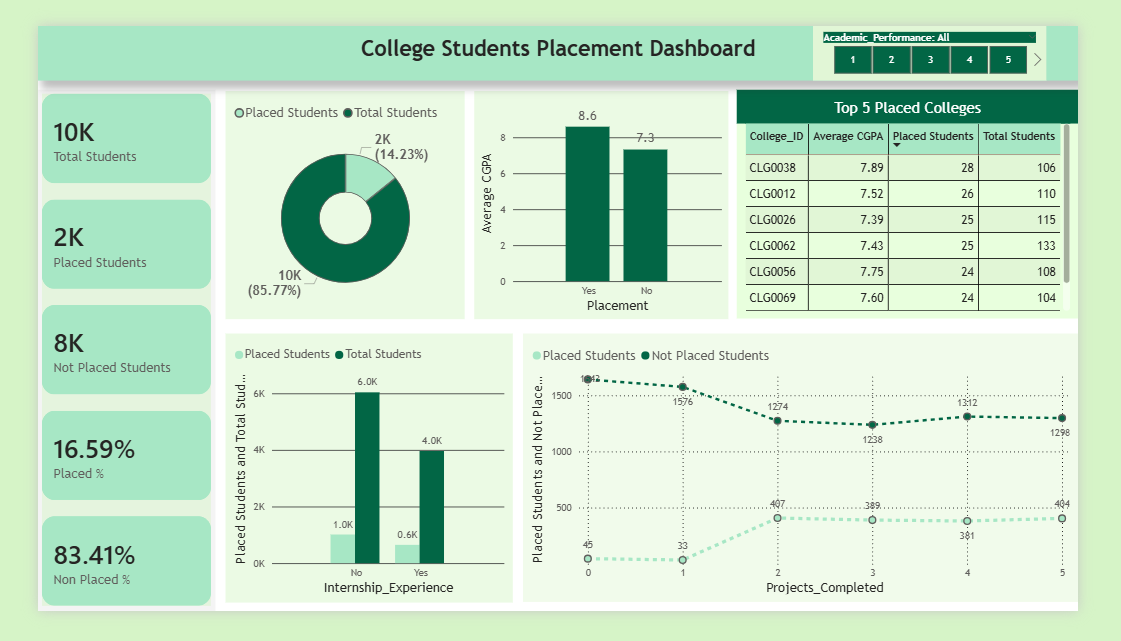

What the dashboard file says about the page in this screenshot:
{"tool":"powerbi","page":{"name":"Page 1","canvas":[1280,720],"ordinal":0},"visuals":[{"type":"cardVisual","fields":{"Data":["college_student_placement_datas.Total Students","college_student_placement_datas.Placed Students","college_student_placement_datas.Not Placed Students","college_student_placement_datas.Placed %","college_student_placement_datas.Non Placed %"]},"box":[0,78.5,218.8,631],"z":0},{"type":"donutChart","fields":{"Y":["college_student_placement_datas.Placed Students","college_student_placement_datas.Total Students"]},"box":[231.4,79.9,294.5,280.5],"z":1000},{"type":"clusteredColumnChart","fields":{"Category":["college_student_placement_datas.Internship_Experience"],"Y":["college_student_placement_datas.Placed Students","college_student_placement_datas.Total Students"]},"box":[231.4,378.6,353.4,330.9],"z":2000},{"type":"columnChart","fields":{"Category":["college_student_placement_datas.Placement"],"Y":["college_student_placement_datas.Average CGPA"]},"box":[537.1,79.9,312.7,280.5],"z":3000},{"type":"tableEx","title":"Top 5 Placed Colleges","fields":{"Values":["college_student_placement_datas.College_ID","college_student_placement_datas.Average CGPA","college_student_placement_datas.Placed Students","college_student_placement_datas.Total Students"]},"box":[859.6,78.5,420.7,281.9],"z":4000},{"type":"actionButton","box":[0,0,100,40],"z":5000},{"type":"lineChart","fields":{"Category":["college_student_placement_datas.Projects_Completed"],"Y":["college_student_placement_datas.Placed Students","college_student_placement_datas.Not Placed Students"]},"box":[597.4,378.6,682.9,321.1],"z":6000},{"type":"textbox","box":[0,0,1280.3,67.3],"z":7000},{"type":"slicer","fields":{"Values":["college_student_placement_datas.Academic_Performance"]},"box":[953.5,0,287.5,67.3],"z":8000}]}

Visuals, with their boxes in screenshot pixels (x1, y1, x2, y2), scaled from the page's 1280x720 canvas onto the 1121x641 screenshot:
cardVisual - college_student_placement_datas.Total Students x college_student_placement_datas.Placed Students: 0:70:192:632
donutChart - college_student_placement_datas.Placed Students x college_student_placement_datas.Total Students: 203:71:461:321
clusteredColumnChart - college_student_placement_datas.Internship_Experience x college_student_placement_datas.Placed Students: 203:337:512:632
columnChart - college_student_placement_datas.Placement x college_student_placement_datas.Average CGPA: 470:71:744:321
"Top 5 Placed Colleges" tableEx: 753:70:1120:321
actionButton: 0:0:88:36
lineChart - college_student_placement_datas.Projects_Completed x college_student_placement_datas.Placed Students: 523:337:1120:623
textbox: 0:0:1120:60
slicer - college_student_placement_datas.Academic_Performance: 835:0:1087:60
